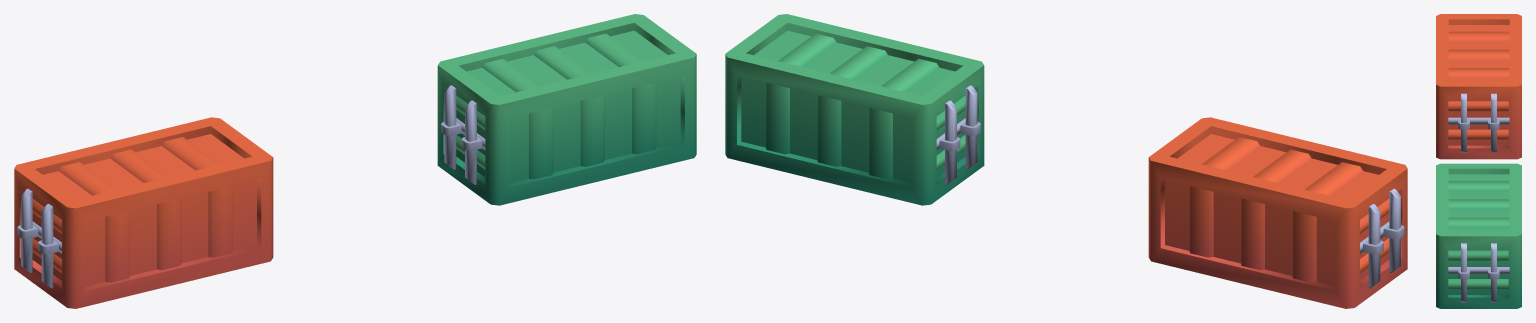
Rendered from barrier.glb.
3 views of the same model, side by side, from view 1: azimuth 30°, elevation 25°; view 2: azimuth 150°, elevation 25°; view 3: azimuth 270°, elevation 25° (orthographic). The views are drawn at different scales.
Parts seen in each view (by area): view 1: barrier; view 2: barrier; view 3: barrier.
Part boxes in pixels (x1,y1,x2,y2): barrier: (14, 14, 696, 308); barrier: (725, 14, 1407, 308); barrier: (1436, 14, 1521, 308).
Size of the model in its own units: 14.14 by 2.09 by 2.24.
2 materials, 2 textured.
